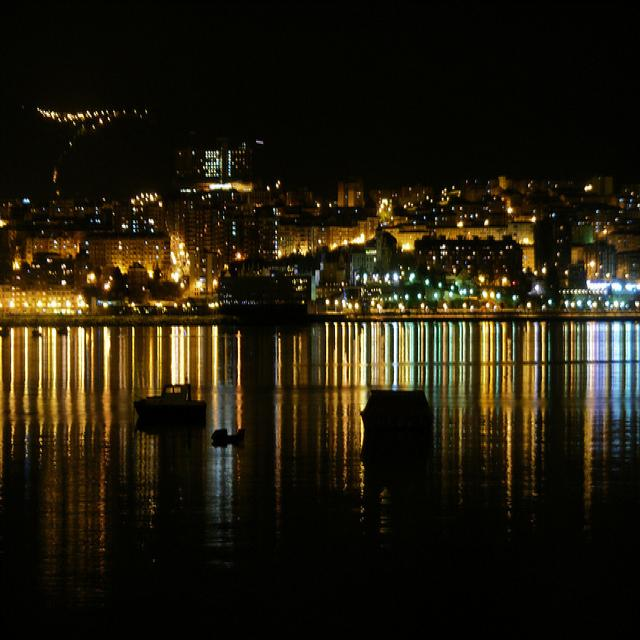Boat: (209, 242, 344, 345), (358, 367, 466, 482), (136, 371, 221, 437)
